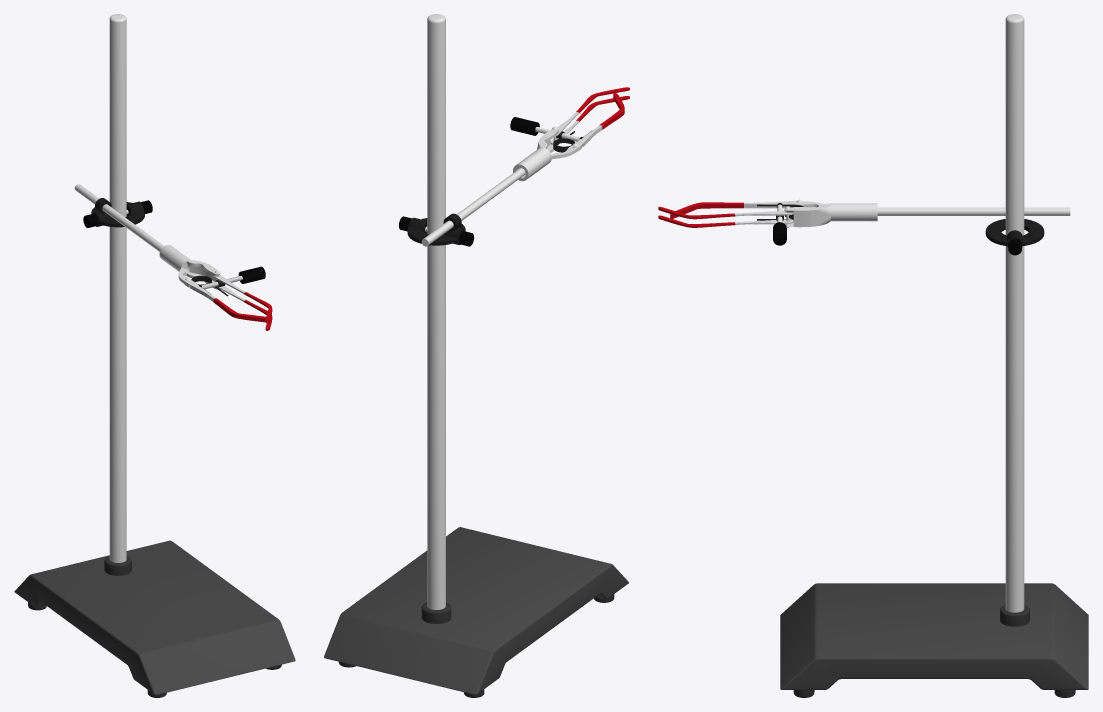
The model's file is decodinhongnghiem.glb.
The picture shows the model from 3 angles, left to right: view 1: azimuth 30°, elevation 25°; view 2: azimuth 150°, elevation 25°; view 3: azimuth 270°, elevation 25°; orthographic projection. The views are drawn at different scales.
Parts seen in each view (by area): view 1: gia_do.043; view 2: gia_do.043; view 3: gia_do.043.
Part boxes in pixels (x1,y1,x2,y2): gia_do.043: [14, 14, 295, 697]; gia_do.043: [324, 14, 629, 697]; gia_do.043: [658, 14, 1088, 697].
Size of the model in its own units: 0.1002 by 0.3996 by 0.2412.
